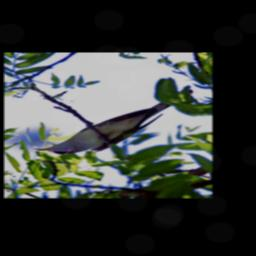Cuckoo: (34, 89, 193, 155)
